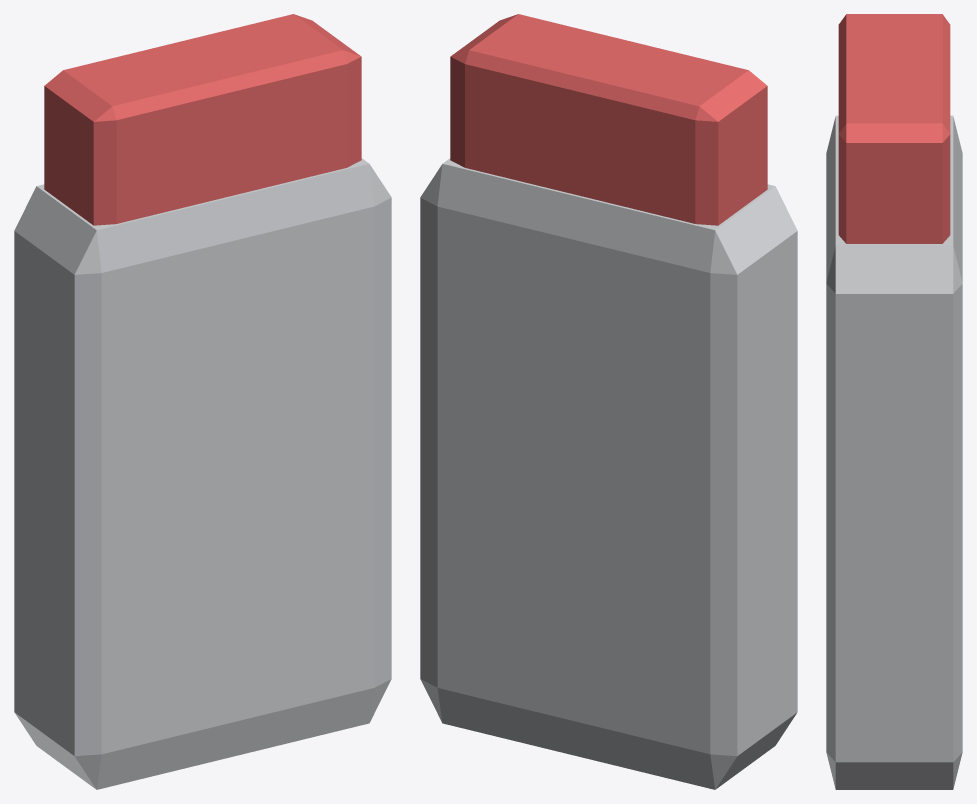
The model's file is b16_foil_drink_pouch.glb.
3 views of the same model, side by side, from view 1: azimuth 30°, elevation 25°; view 2: azimuth 150°, elevation 25°; view 3: azimuth 270°, elevation 25° (orthographic). The views are drawn at different scales.
Visible parts, largest first — view 1: b16_foil_drink_pouch; view 2: b16_foil_drink_pouch; view 3: b16_foil_drink_pouch.
Part boxes in pixels (bbox=[...]): b16_foil_drink_pouch: bbox=[14, 14, 391, 789]; b16_foil_drink_pouch: bbox=[420, 14, 797, 789]; b16_foil_drink_pouch: bbox=[826, 14, 962, 789].
Size of the model in its own units: 0.094 by 0.191 by 0.036.
